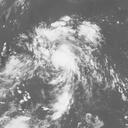cyclone: (36, 25, 97, 84)
